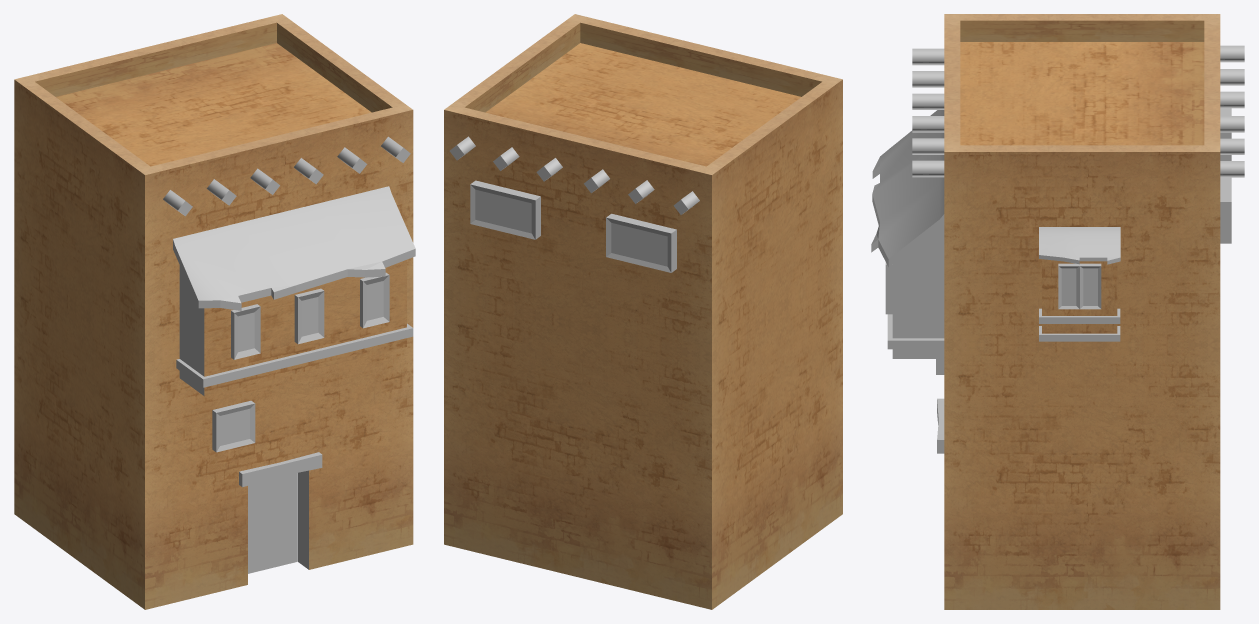
Rendered from House_01.fbx.
3 views of the same model, side by side, from view 1: azimuth 30°, elevation 25°; view 2: azimuth 150°, elevation 25°; view 3: azimuth 270°, elevation 25° (orthographic). The views are drawn at different scales.
Visible parts, largest first — view 1: House_01; view 2: House_01; view 3: House_01.
Boxes of the visible parts, left/top/right/bottom form: House_01: left=14, top=14, right=415, bottom=609; House_01: left=444, top=14, right=842, bottom=609; House_01: left=871, top=14, right=1244, bottom=609.
Size of the model in its own units: 113 by 158 by 117.
